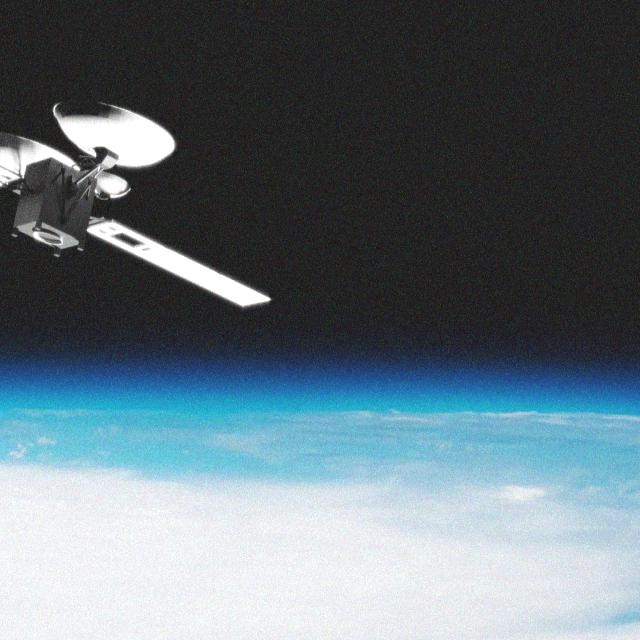satellite: (0, 94, 277, 318)
